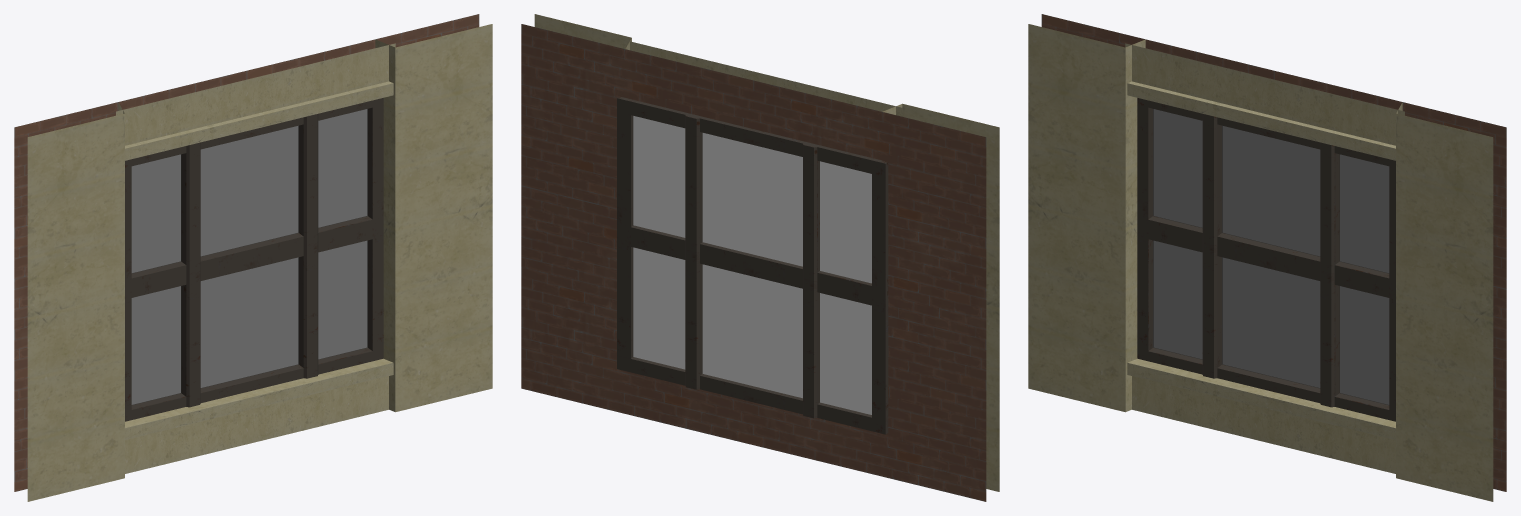
The model's file is Marble_Window.gltf.
3 views of the same model, side by side, from view 1: azimuth 30°, elevation 25°; view 2: azimuth 150°, elevation 25°; view 3: azimuth 330°, elevation 25° (orthographic).
Parts seen in each view (by area): view 1: Marble_Window; view 2: Marble_Window; view 3: Marble_Window.
Boxes of the visible parts, x1=… form: Marble_Window: x1=14, y1=14, x2=492, y2=501; Marble_Window: x1=521, y1=14, x2=999, y2=501; Marble_Window: x1=1028, y1=14, x2=1506, y2=501.
Size of the model in its own units: 4 by 3 by 0.2562.
5 materials, 3 textured.
